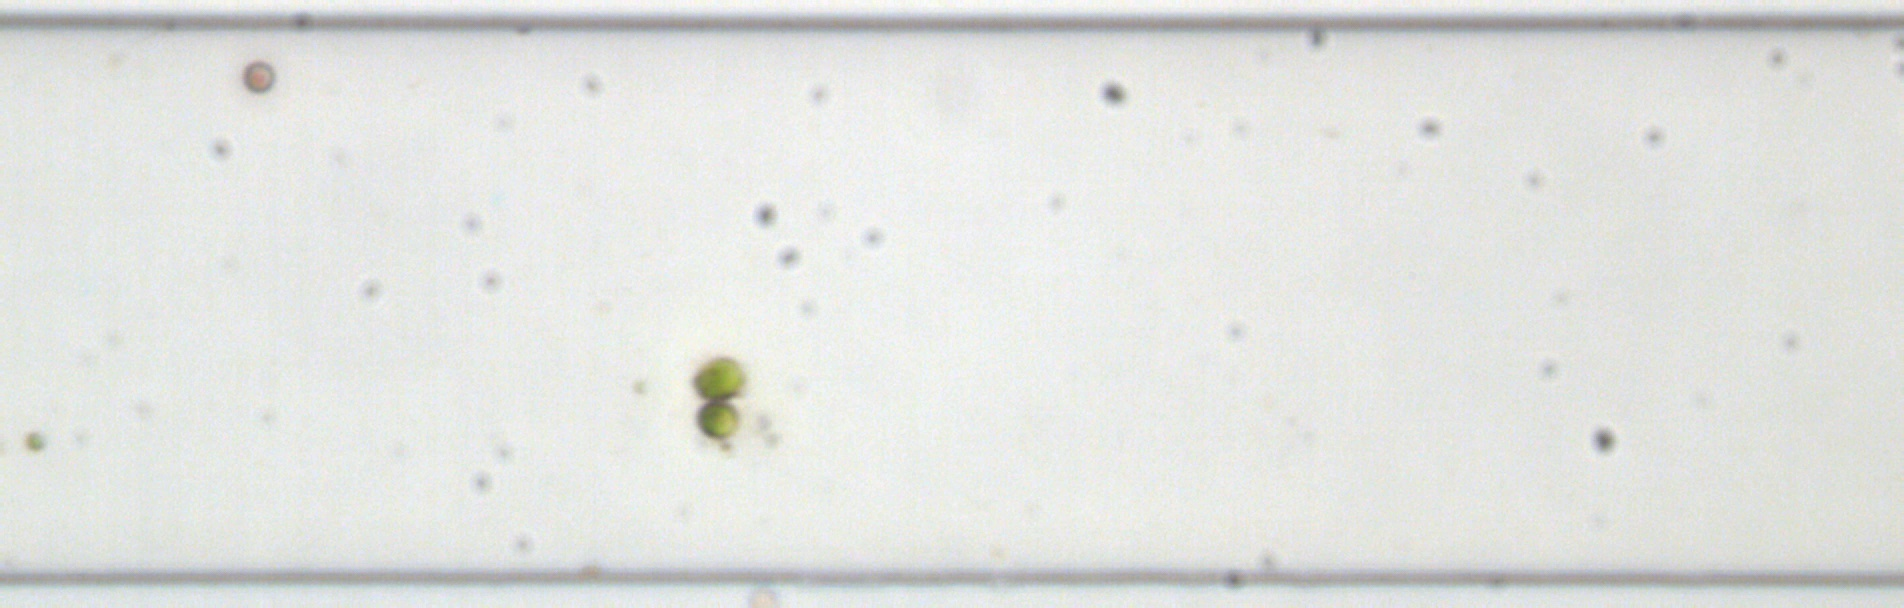Chlorella: (22, 428, 49, 451)
Platymonas: (686, 353, 747, 404), (691, 396, 739, 439)
Porphyridium: (237, 58, 277, 93)
